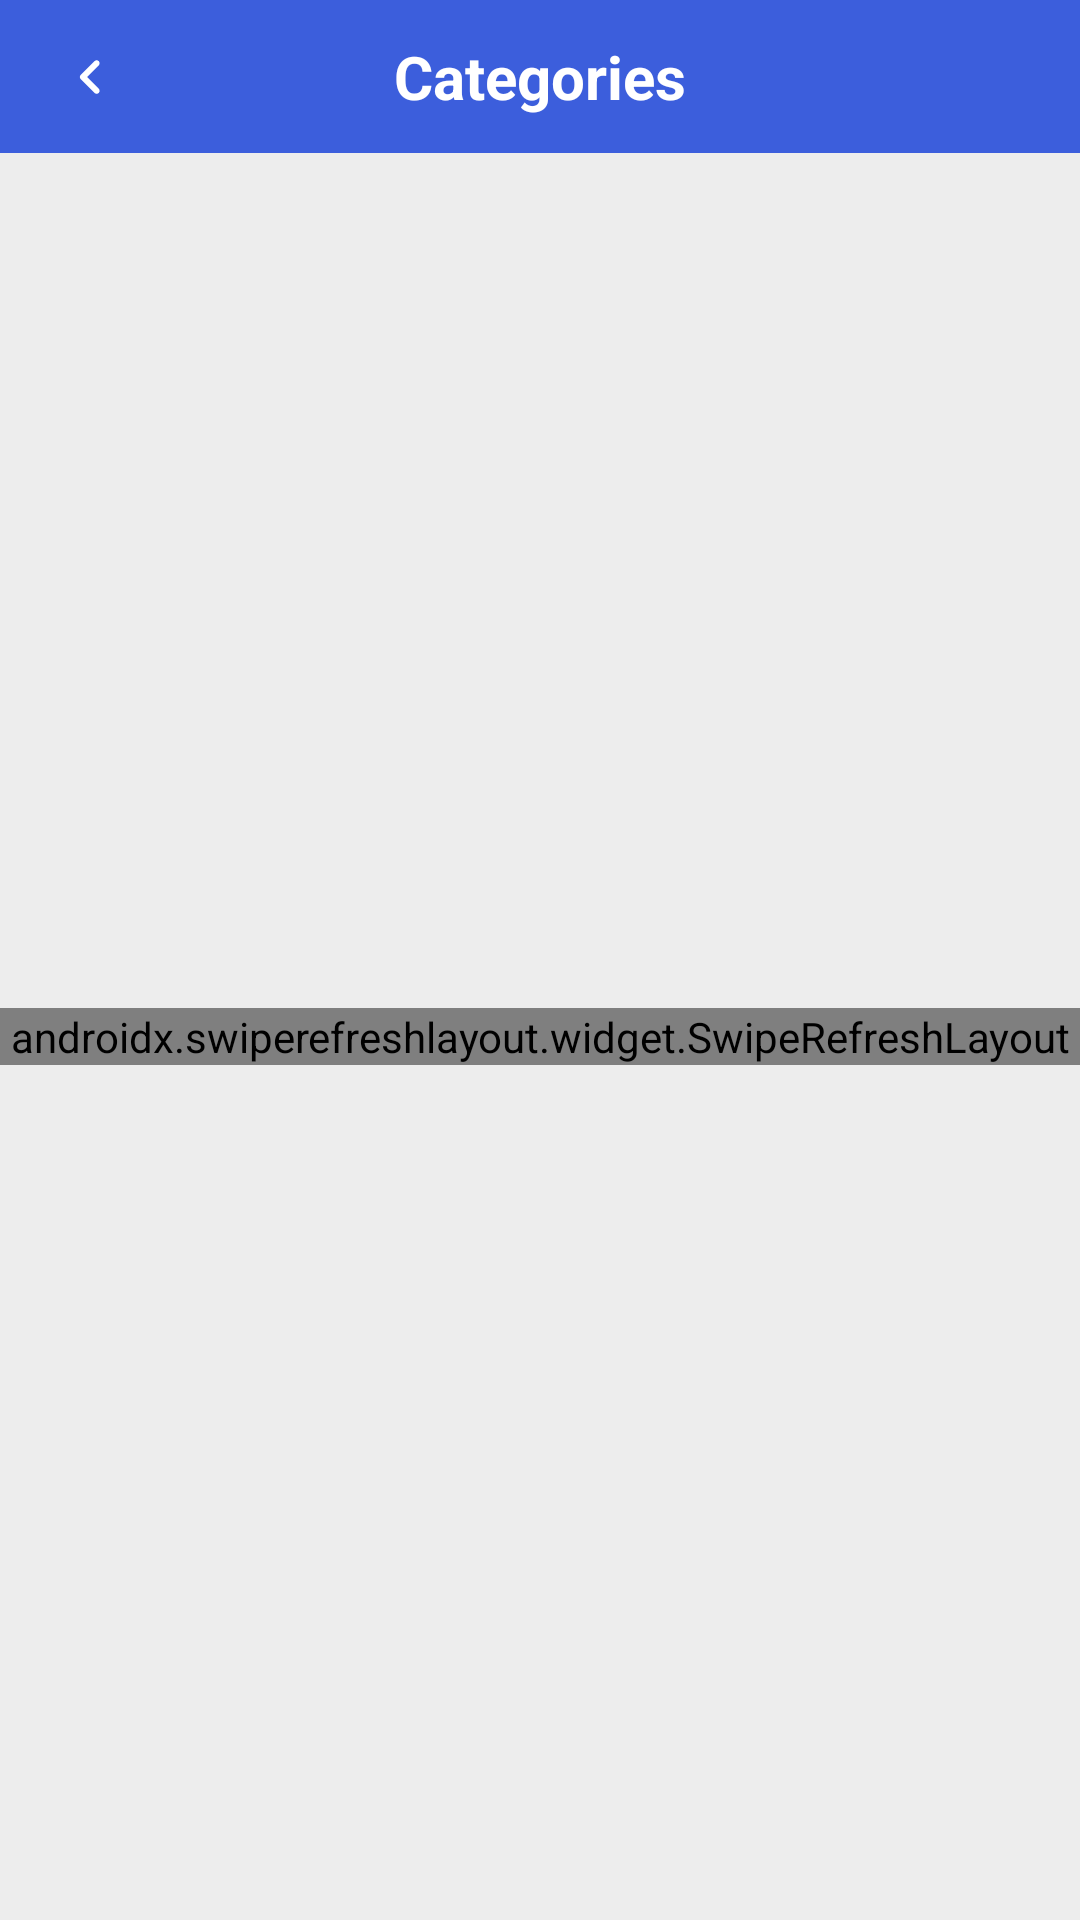

Icon bounding boxes for this 1080×1920 phone screenshot, format rect(x1, y1, x2, y2):
navigate before: rect(80, 60, 100, 94)
